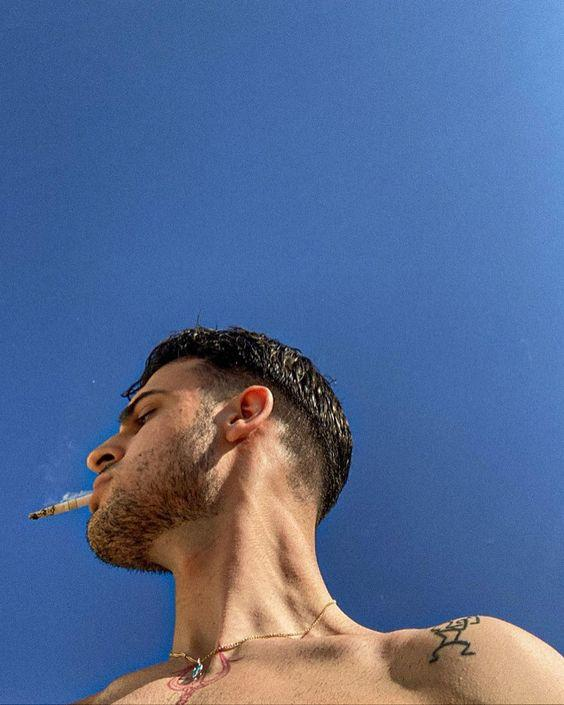cigarette: (28, 493, 92, 521)
